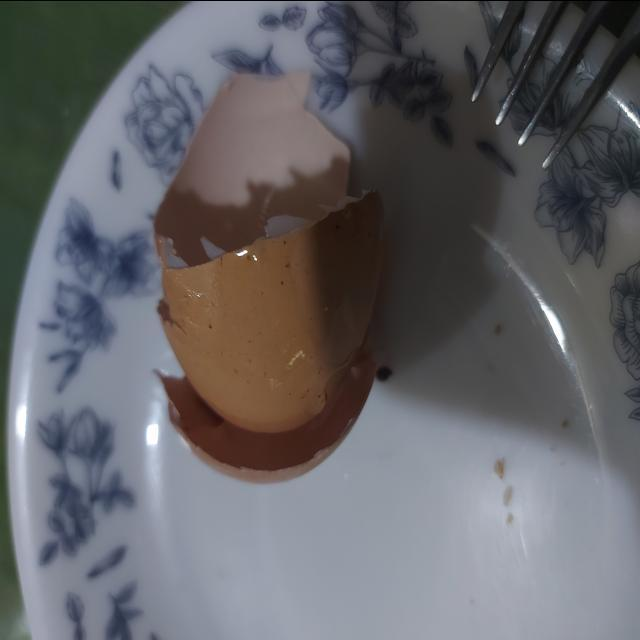egg shell: (144, 59, 404, 494)
